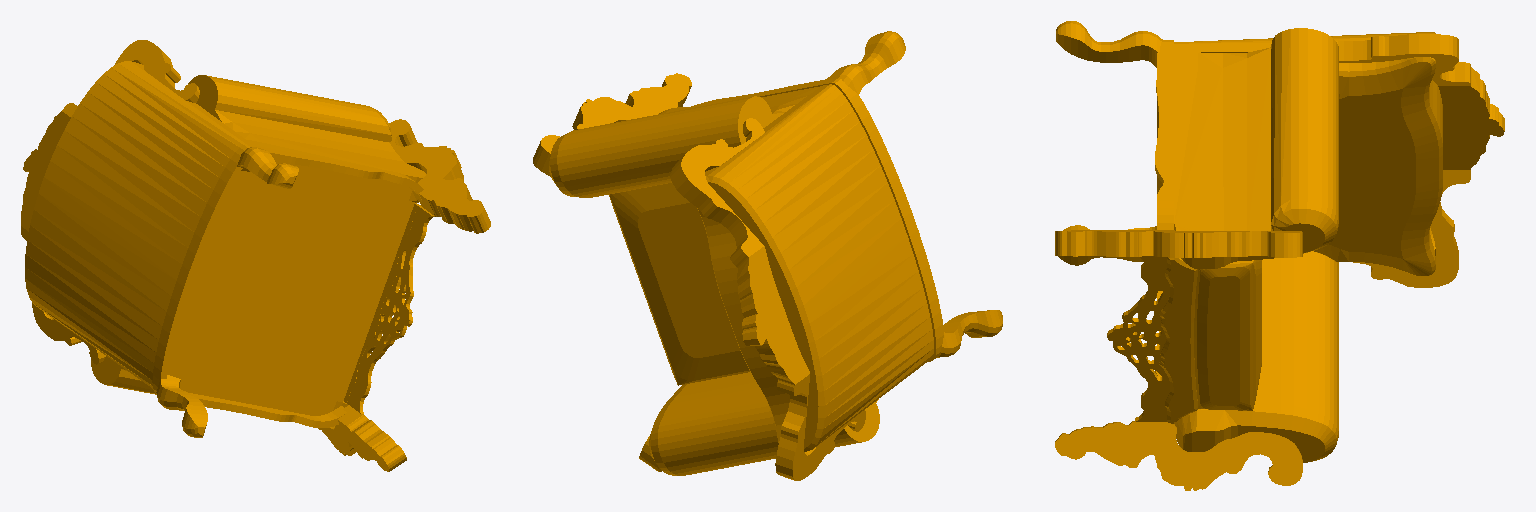
The robot description file, URDF, robot "04256520_45cc71dc2483972e742728b30848ed03":
<?xml version='1.0'?>

<robot name="04256520_45cc71dc2483972e742728b30848ed03">
    <static>false</static>
    <link name="link">
        <inertial>
            <mass value="0.09040980008925822"/>
            <inertia ixx="-6.180357427976638e-05" ixy="-0.0" ixz="1.3243623059949937e-05" iyy="-4.414541019983312e-05"
                     iyz="-0.0" izz="-8.829082039966625e-05"/>
        </inertial>
        <collision name="collision">
            <geometry>
                <mesh filename="package://miscnet/train/04256520_45cc71dc2483972e742728b30848ed03/collision_model_vhacd.obj"/>
            </geometry>
        </collision>
        <visual name="visual">
            <geometry>
                <mesh filename="package://miscnet/train/04256520_45cc71dc2483972e742728b30848ed03/visual_model.obj"/>
            </geometry>
        </visual>
    </link>
</robot>

--- What the picture shows (computed from the rendered views, not written in the file) ---
The picture shows the robot from 3 angles, left to right: view 1: azimuth 30°, elevation 25°; view 2: azimuth 150°, elevation 25°; view 3: azimuth 270°, elevation 25°; orthographic projection.
Robot: 04256520_45cc71dc2483972e742728b30848ed03 — 1 links, 0 joints (none); root link link; default pose: all joints at 0.
Links seen in each view (by area): view 1: link; view 2: link; view 3: link.
Boxes of the visible links, x1=… form: link: x1=21, y1=40, x2=490, y2=471; link: x1=533, y1=31, x2=1002, y2=480; link: x1=1055, y1=21, x2=1504, y2=490.
Bounding box of the posed robot: 0.1065 × 0.1102 × 0.1123 m (x, y, z).
1 mesh visuals loaded from 1 distinct referenced files (1 OBJ).
